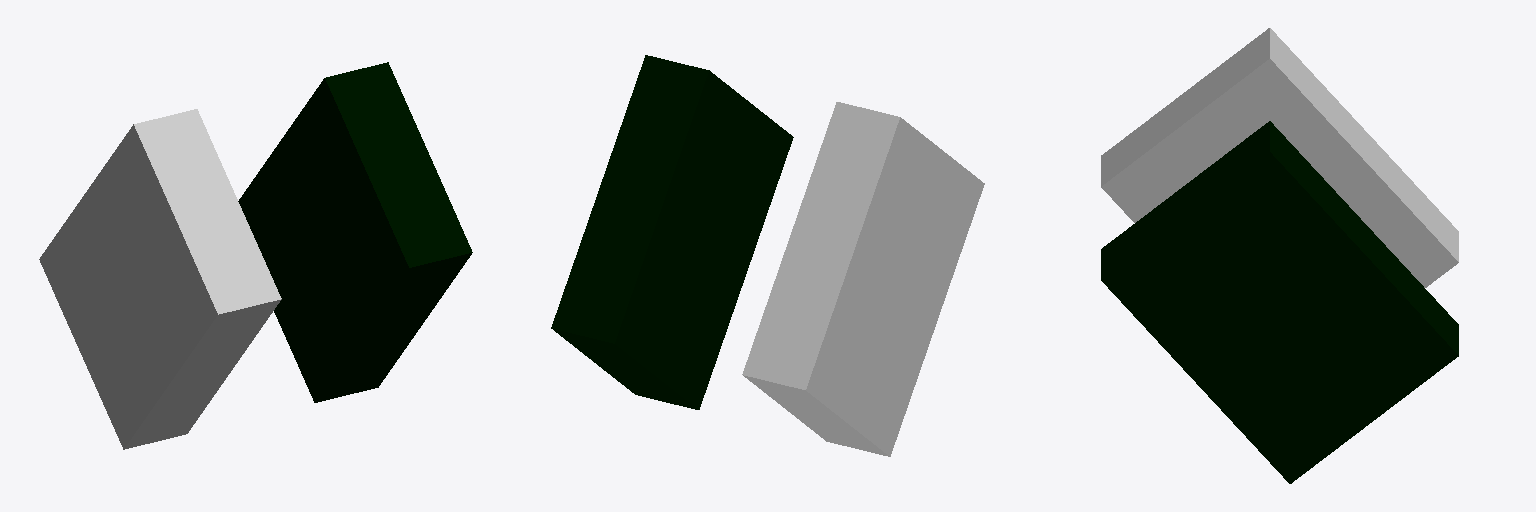
Rendered from Robot15.obj.
The picture shows the model from 3 angles: view 1: azimuth 30°, elevation 25°; view 2: azimuth 150°, elevation 25°; view 3: azimuth 270°, elevation 25°; orthographic projection.
Visible parts, largest first — view 1: 立方体.021, 立方体.019; view 2: 立方体.019, 立方体.021; view 3: 立方体.019, 立方体.021.
Boxes of the visible parts, <box> form: 立方体.021: <box>39,109,281,449</box>; 立方体.019: <box>238,62,472,402</box>; 立方体.019: <box>551,55,793,409</box>; 立方体.021: <box>742,102,984,456</box>; 立方体.019: <box>1101,121,1458,483</box>; 立方体.021: <box>1101,28,1458,287</box>.
Size of the model in its own units: 0.4 by 0.4993 by 0.4869.